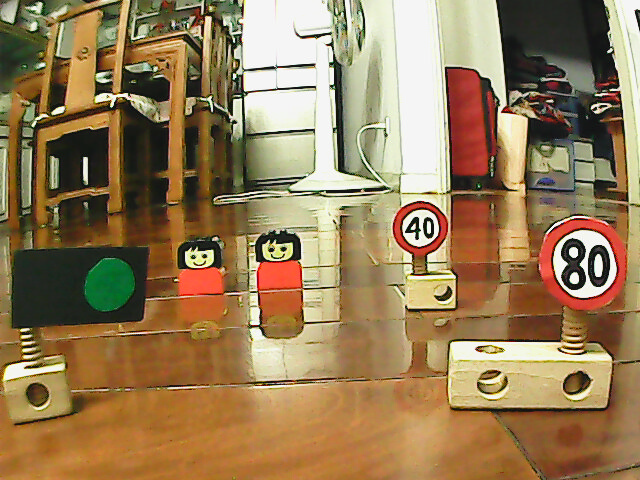Green Traffic Light: (76, 249, 144, 320)
Person: (251, 227, 307, 293), (175, 234, 229, 296)
Speed Limit 40: (390, 198, 450, 256)
Speed Limit 80: (536, 212, 632, 314)
